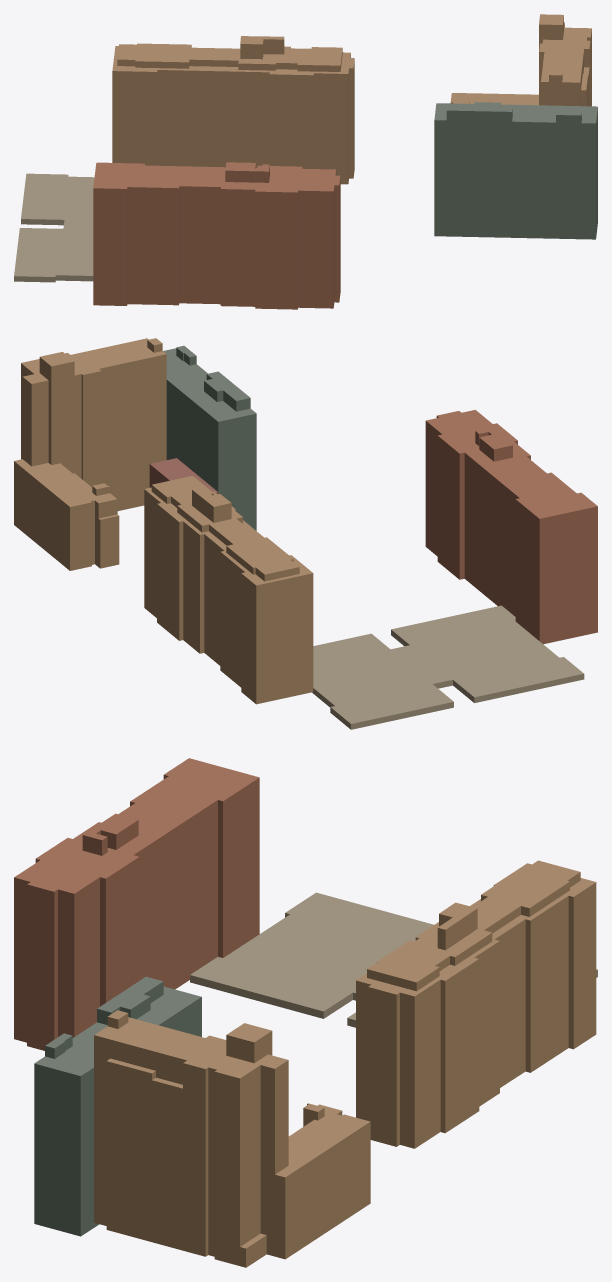
File: tile-0_1.glb
3 renders of one model, top to bottom at view 1: azimuth 30°, elevation 25°; view 2: azimuth 150°, elevation 25°; view 3: azimuth 270°, elevation 25°, orthographic. The views are drawn at different scales.
Visible parts, largest first — view 1: wall, roof; view 2: wall, roof; view 3: wall, roof.
Boxes of the visible parts, x1,y1,x2,y2 form: wall: (14,17,597,309); roof: (14,14,597,276); wall: (14,340,597,729); roof: (14,338,597,723); wall: (14,775,597,1267); roof: (14,758,597,1248).
Bounding box in the file's own units: 238 × 63.75 × 158.
